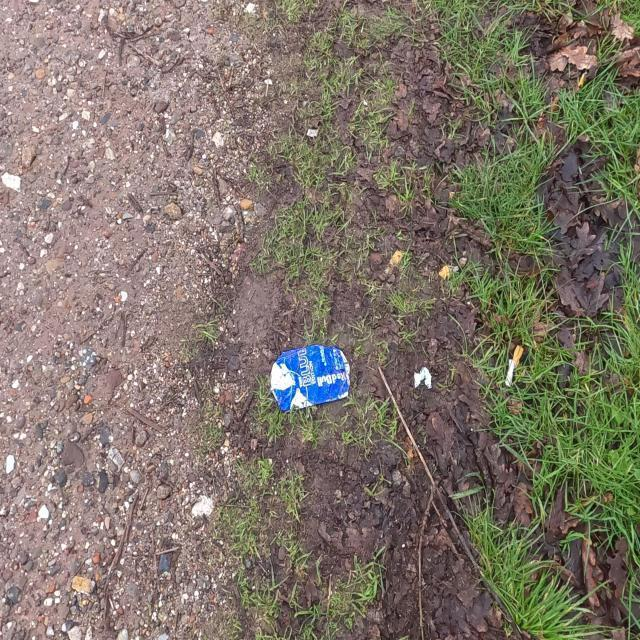Can-Metal: (268, 343, 352, 413)
Plastic: (413, 366, 432, 390)
